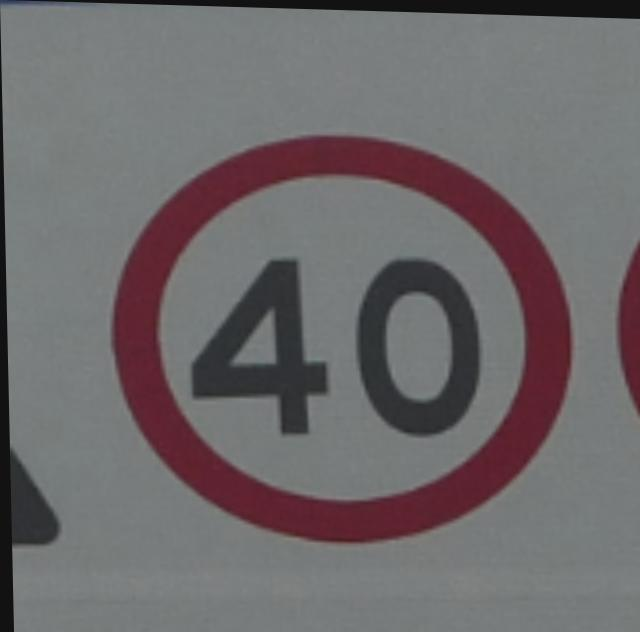limit40: (94, 118, 584, 552)
